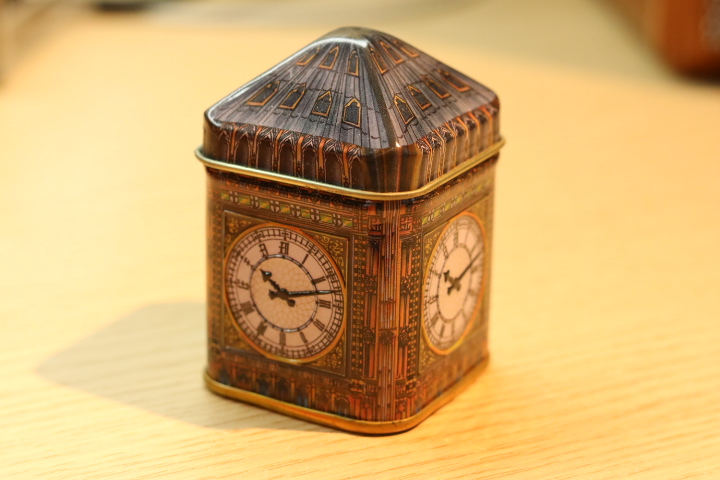Big Ben: (182, 15, 514, 444)
